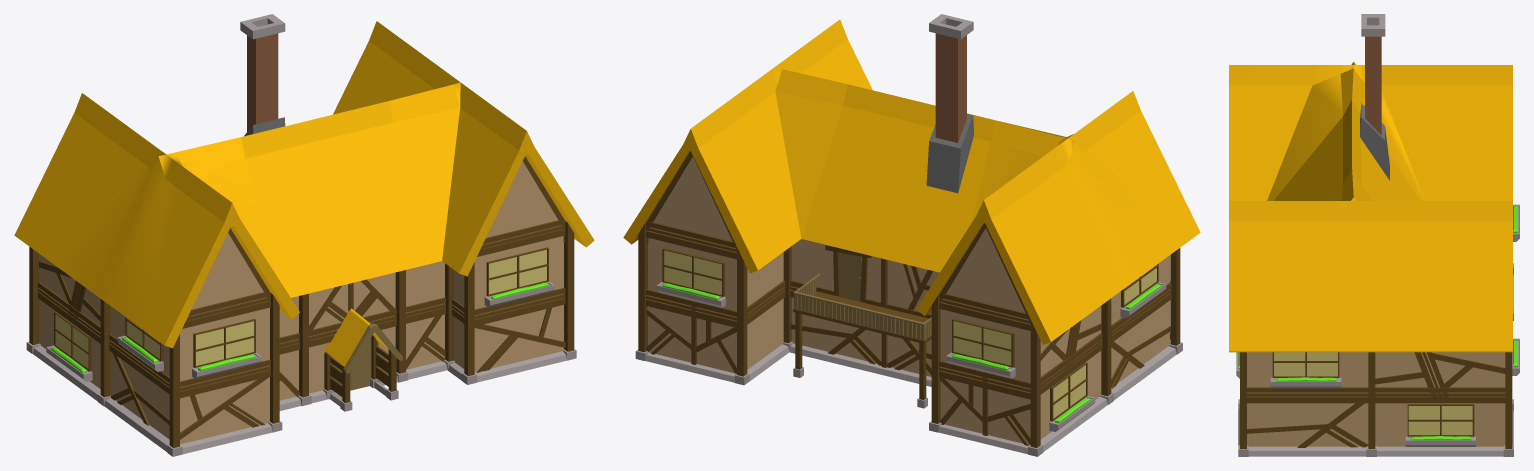
The model's file is Modular_Houses_The_Inn.fbx.
The picture shows the model from 3 angles, left to right: view 1: azimuth 30°, elevation 25°; view 2: azimuth 150°, elevation 25°; view 3: azimuth 270°, elevation 25°; orthographic projection. The views are drawn at different scales.
Visible parts, largest first — view 1: The_Inn; view 2: The_Inn; view 3: The_Inn.
Boxes of the visible parts, <box> form: The_Inn: <box>14,14,594,456</box>; The_Inn: <box>623,14,1200,456</box>; The_Inn: <box>1229,14,1519,456</box>.
Size of the model in its own units: 20.24 by 15.43 by 12.54.
1 material, 1 textured.
